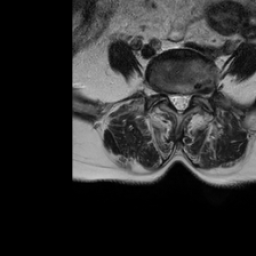CCS_normal: (176, 87, 182, 117)
LFS_severe_stenosis: (189, 85, 197, 104)
LLS_normal: (182, 87, 189, 113)
RFS_severe_stenosis: (161, 84, 168, 102)
RLS_normal: (168, 88, 175, 111)
